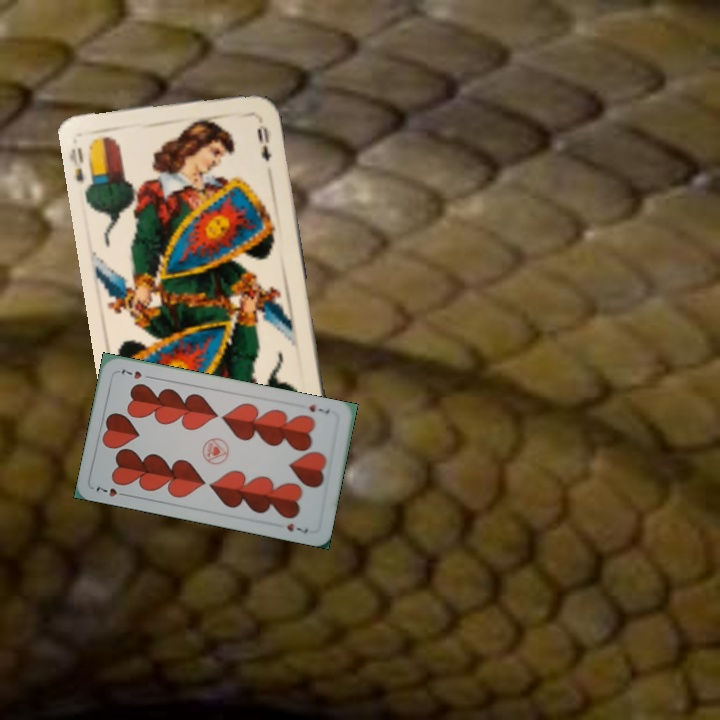EO: (66, 143, 86, 184)
H7: (92, 483, 131, 500), (304, 400, 332, 416)
